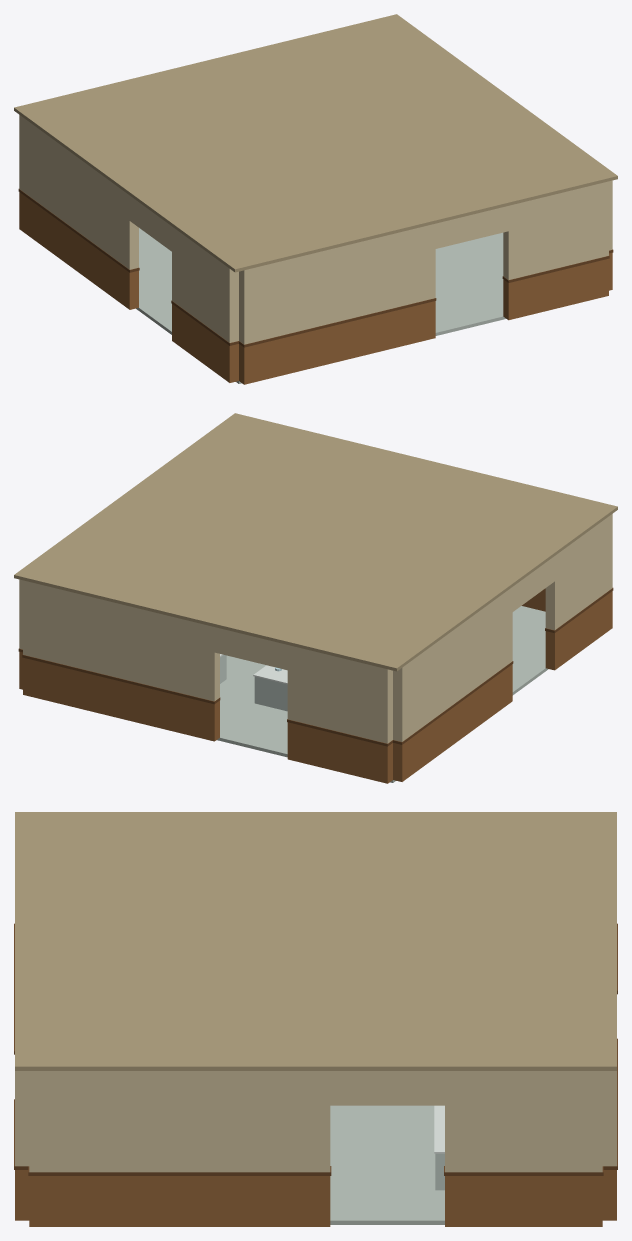
File: room_botany_cell_culture_lab.glb
The picture shows the model from 3 angles, top to bottom: view 1: azimuth 30°, elevation 25°; view 2: azimuth 150°, elevation 25°; view 3: azimuth 270°, elevation 25°; orthographic projection. The views are drawn at different scales.
Parts seen in each view (by area): view 1: room_botany_cell_culture_lab; view 2: room_botany_cell_culture_lab; view 3: room_botany_cell_culture_lab.
Part boxes in pixels (x1,y1,x2,y2): room_botany_cell_culture_lab: (14,14,617,384); room_botany_cell_culture_lab: (14,413,617,783); room_botany_cell_culture_lab: (14,812,617,1226).
Bounding box in the file's own units: 12.62 × 3.8 × 12.64.
1 material, 1 textured.
